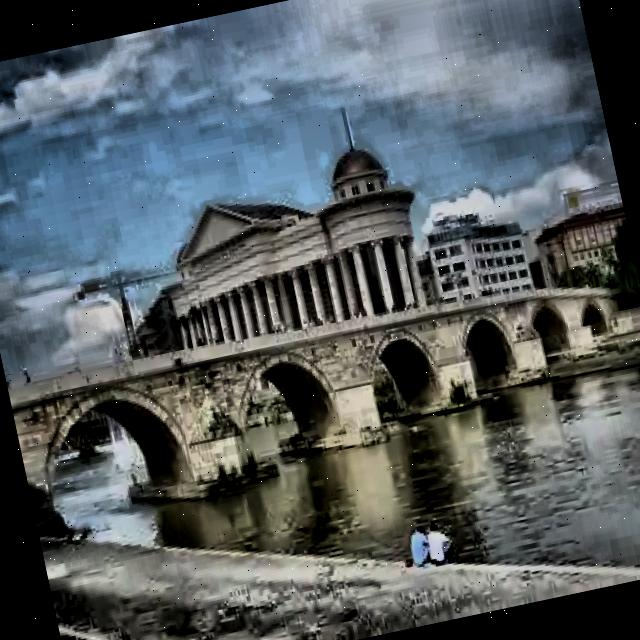stone bridge: (7, 255, 640, 533)
